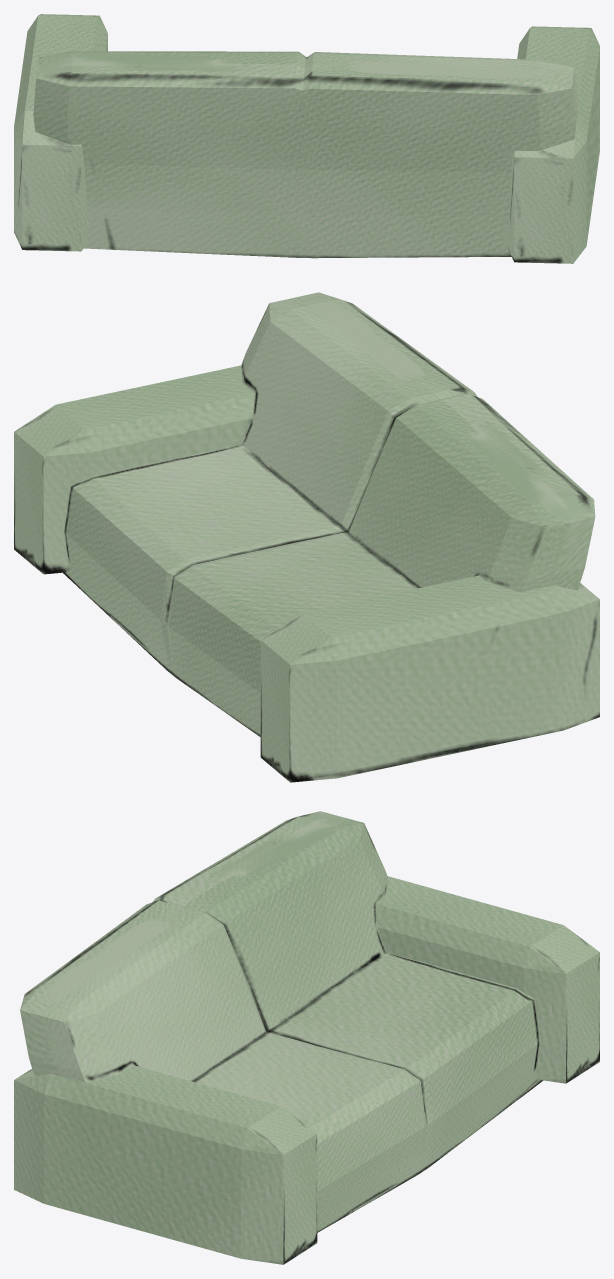
File: furniture_sofa.glb
3 renders of one model, top to bottom at view 1: azimuth 30°, elevation 25°; view 2: azimuth 150°, elevation 25°; view 3: azimuth 270°, elevation 25°, orthographic. The views are drawn at different scales.
Visible parts, largest first — view 1: Sofa; view 2: Sofa; view 3: Sofa.
Boxes of the visible parts, x1,y1,x2,y2 form: Sofa: (14, 14, 599, 263); Sofa: (14, 292, 599, 782); Sofa: (14, 811, 599, 1264).
Bounding box in the file's own units: 0.1783 × 0.062 × 0.1589.
1 material, 1 textured.
